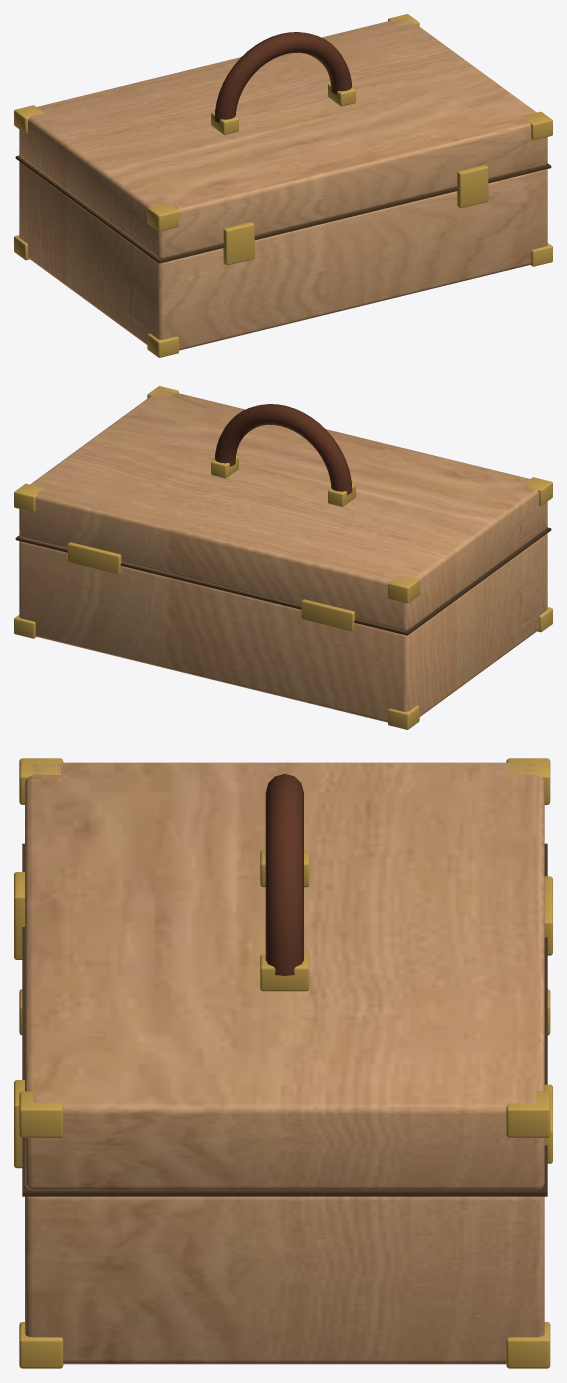
File: herodesk-art-case.glb
The picture shows the model from 3 angles, top to bottom: view 1: azimuth 30°, elevation 25°; view 2: azimuth 150°, elevation 25°; view 3: azimuth 270°, elevation 25°; orthographic projection. The views are drawn at different scales.
Parts seen in each view (by area): view 1: herodesk-art-case · mesh; view 2: herodesk-art-case · mesh; view 3: herodesk-art-case · mesh.
Part boxes in pixels (bbox=[...]): herodesk-art-case · mesh: bbox=[14, 14, 552, 357]; herodesk-art-case · mesh: bbox=[14, 386, 552, 729]; herodesk-art-case · mesh: bbox=[14, 758, 552, 1368].
Bounding box in the file's own units: 0.304 × 0.164 × 0.197.
Materials: 4 (1 with a texture image).
